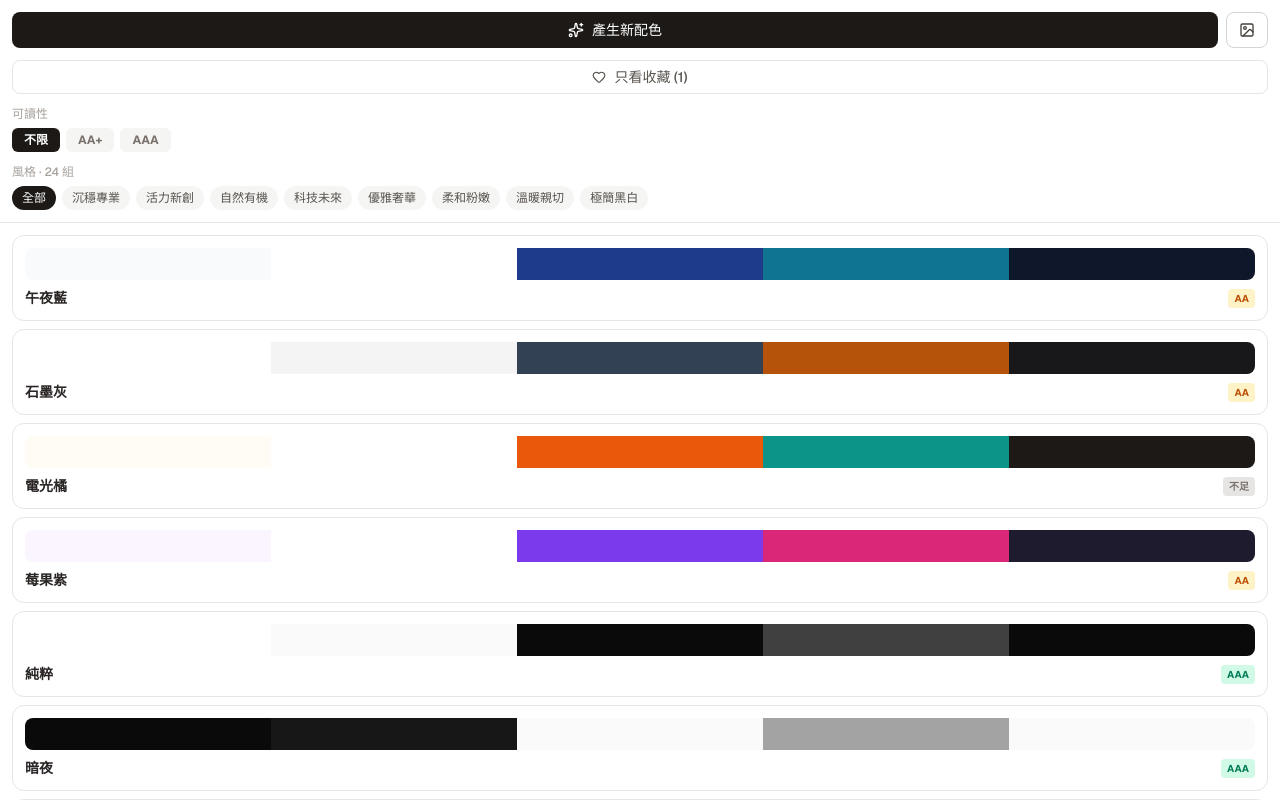
Test case: PaletteGallery › only shows favorites when '只看收藏' is on
The image size is (1280, 800).
Check: the text "午夜藍" is shown, box [25,288,67,308]
Click the button "只看收藏 (1)" at (640, 77), box [12,60,1268,94]
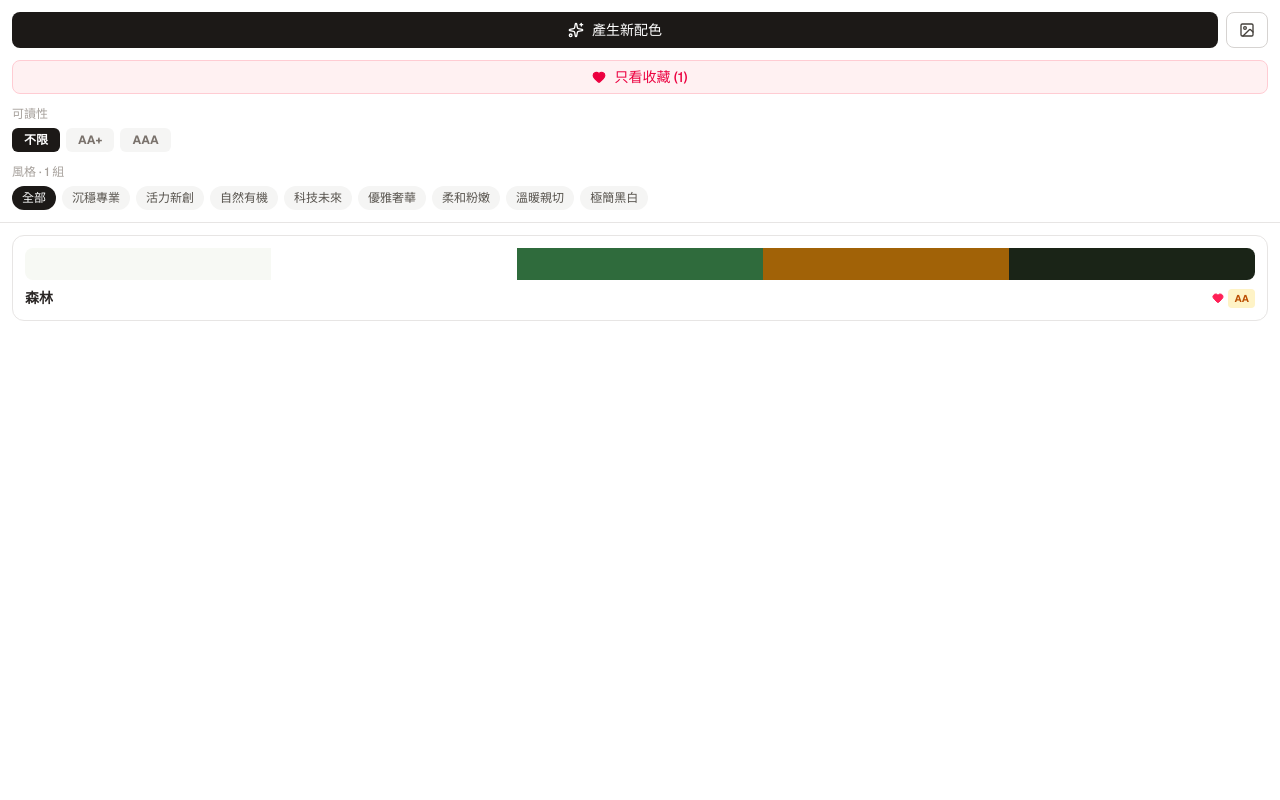
Check: the text "森林" is shown, box [25,288,53,308]
Check: the button "午夜藍" is gone
